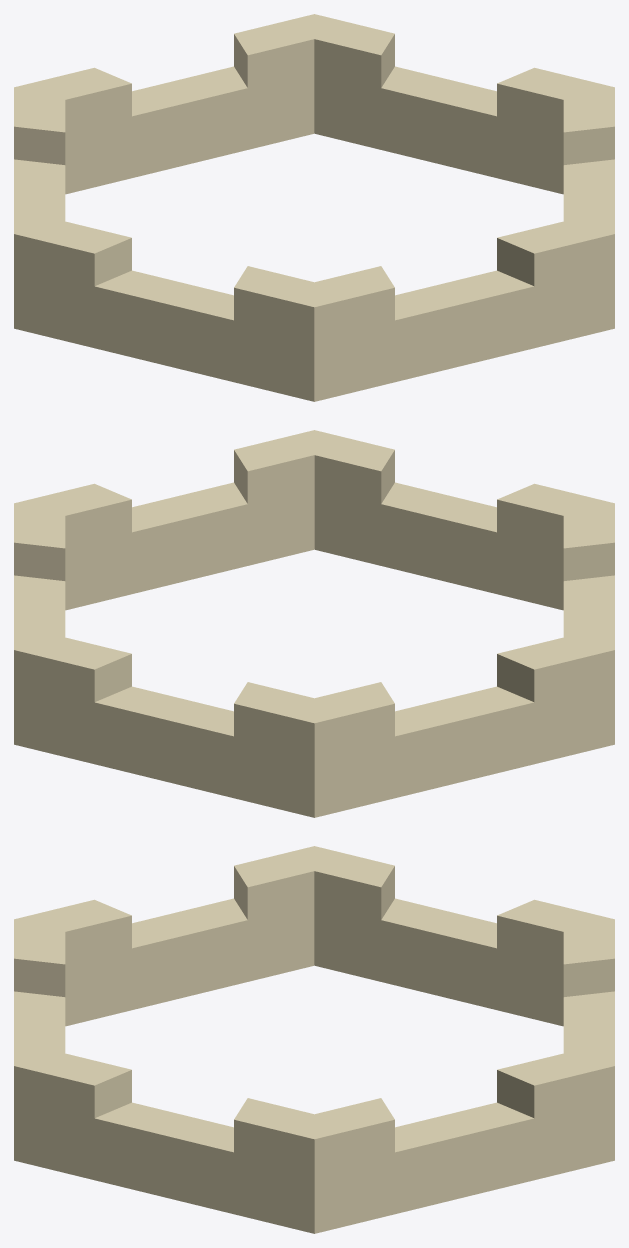
Rendered from towerHexagonTop_exclusive.fbx.
3 renders of one model, top to bottom at view 1: azimuth 30°, elevation 25°; view 2: azimuth 150°, elevation 25°; view 3: azimuth 270°, elevation 25°, orthographic.
Visible parts, largest first — view 1: towerHexagonTop_exclusive; view 2: towerHexagonTop_exclusive; view 3: towerHexagonTop_exclusive.
Part boxes in pixels (left/top/right/bottom): towerHexagonTop_exclusive: left=14, top=14, right=614, bottom=401; towerHexagonTop_exclusive: left=14, top=430, right=614, bottom=817; towerHexagonTop_exclusive: left=14, top=846, right=614, bottom=1233.
Bounding box in the file's own units: 8.64 × 1.3 × 7.48.
